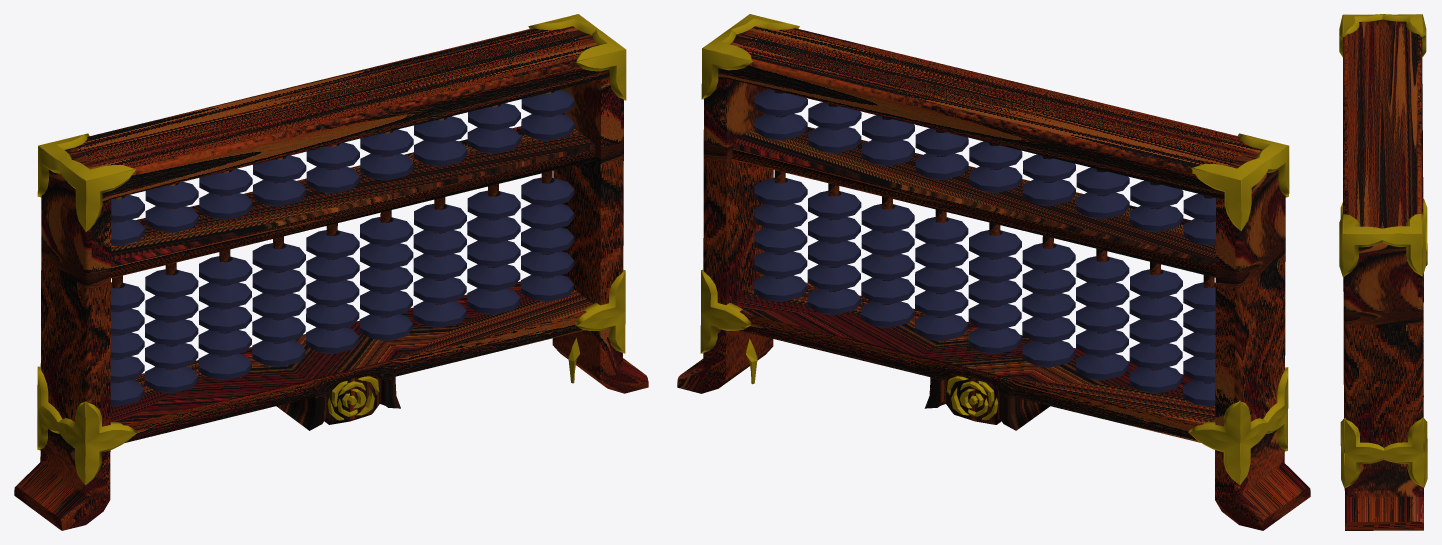
File: abacus.glb
The picture shows the model from 3 angles, left to right: view 1: azimuth 30°, elevation 25°; view 2: azimuth 150°, elevation 25°; view 3: azimuth 270°, elevation 25°; orthographic projection. The views are drawn at different scales.
Parts seen in each view (by area): view 1: Cylinder001, r, w1; view 2: Cylinder001, r, w1; view 3: Cylinder001, w1.
Part boxes in pixels (x1=…): Cylinder001: x1=14, y1=26, x2=648, y2=530; r: x1=110, y1=90, x2=574, y2=406; w1: x1=37, y1=14, x2=626, y2=485; Cylinder001: x1=677, y1=26, x2=1310, y2=530; r: x1=754, y1=89, x2=1215, y2=406; w1: x1=700, y1=14, x2=1289, y2=484; Cylinder001: x1=1343, y1=19, x2=1423, y2=530; w1: x1=1339, y1=14, x2=1427, y2=488.
Size of the model in its own units: 121 by 69.09 by 19.05.
Materials: 3 (1 with a texture image).
